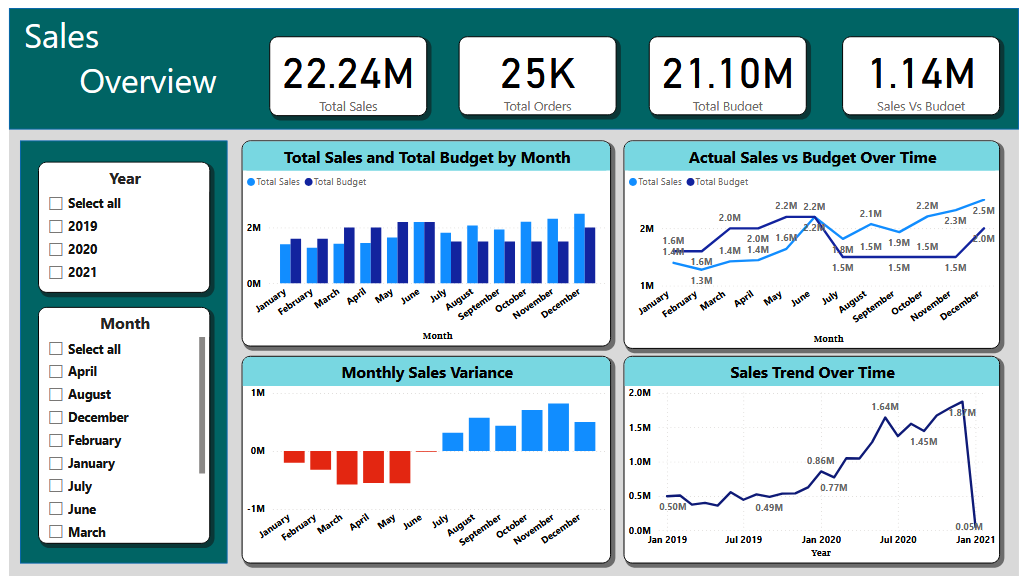

This screenshot's page, from the dashboard's own definition file:
{"tool":"powerbi","page":{"name":"Sales Overview Dashboard","canvas":[1280,720],"ordinal":0},"visuals":[{"type":"shape","title":"Background 2","box":[0,0,1280.4,153.6],"z":0,"group":"g1"},{"type":"shape","title":"Background 1","box":[14.3,167.9,262.5,535.7],"z":1000,"group":"g1"},{"type":"group","id":"g1","title":"Group 2","box":[0,0,1280.4,703.6],"z":1500},{"type":"clusteredColumnChart","fields":{"Y":["FACT_InternetSales.Total Sales","SalesBudget_Clean.Total Budget"],"Category":["DIM_Calendar.Date.Variation.Date Hierarchy.Month"]},"box":[294.6,167.9,467.9,260.7],"z":2000},{"type":"lineChart","title":"Sales Trend Over Time","fields":{"Y":["FACT_InternetSales.Total Sales"],"Category":["DIM_Calendar.Date.Variation.Date Hierarchy.Year","DIM_Calendar.Date.Variation.Date Hierarchy.Month"]},"box":[779,440.6,476.6,263.5],"z":3000},{"type":"slicer","title":"Year","fields":{"Values":["DIM_Calendar.Year"]},"box":[37.5,194.6,217.9,166.1],"z":4000},{"type":"slicer","title":"Month","fields":{"Values":["DIM_Calendar.Month"]},"box":[37.5,378.6,217.9,300],"z":5000},{"type":"clusteredColumnChart","title":"Monthly Sales Variance ","fields":{"Y":["FACT_InternetSales.Sales Vs Budget"],"Category":["DIM_Calendar.Date.Variation.Date Hierarchy.Month"]},"box":[295.2,440.6,468,263.5],"z":6000},{"type":"lineChart","title":"Actual Sales vs Budget Over Time","fields":{"Y":["FACT_InternetSales.Total Sales","SalesBudget_Clean.Total Budget"],"Category":["DIM_Calendar.Date.Variation.Date Hierarchy.Month"]},"box":[779,168.5,476.6,263.5],"z":7000},{"type":"textbox","title":"Title","box":[14.4,0,301,154.1],"z":9000},{"type":"card","title":"Card 4","fields":{"Values":["FACT_InternetSales.Sales Vs Budget"]},"box":[1055.3,35.7,200,100],"z":9500,"group":"g2"},{"type":"group","id":"g2","title":"Group 1","box":[329.8,35.7,925.5,101],"z":10000},{"type":"card","title":"Card 2","fields":{"Values":["FACT_InternetSales.Total Orders"]},"box":[569.6,35.7,200,100],"z":10000,"group":"g2"},{"type":"card","title":"Card 3","fields":{"Values":["SalesBudget_Clean.Total Budget"]},"box":[810.7,35.7,200,100],"z":11000,"group":"g2"},{"type":"card","title":"Card 1","fields":{"Values":["FACT_InternetSales.Total Sales"]},"box":[329.8,35.9,199.9,100.8],"z":11500,"group":"g2"}]}

Visuals, with their boxes in screenshot pixels (x1, y1, x2, y2), scaled from the page's 1280x720 canvas onto the 1030x585 screenshot:
"Background 2" shape: [0,0,1029,125]
"Background 1" shape: [12,136,223,572]
"Group 2" group: [0,0,1029,572]
clusteredColumnChart - FACT_InternetSales.Total Sales x SalesBudget_Clean.Total Budget: [237,136,614,348]
"Sales Trend Over Time" lineChart: [627,358,1010,572]
"Year" slicer: [30,158,206,293]
"Month" slicer: [30,308,206,551]
"Monthly Sales Variance " clusteredColumnChart: [238,358,614,572]
"Actual Sales vs Budget Over Time" lineChart: [627,137,1010,351]
"Title" textbox: [12,0,254,125]
"Card 4" card: [849,29,1010,110]
"Group 1" group: [265,29,1010,111]
"Card 2" card: [458,29,619,110]
"Card 3" card: [652,29,813,110]
"Card 1" card: [265,29,426,111]
